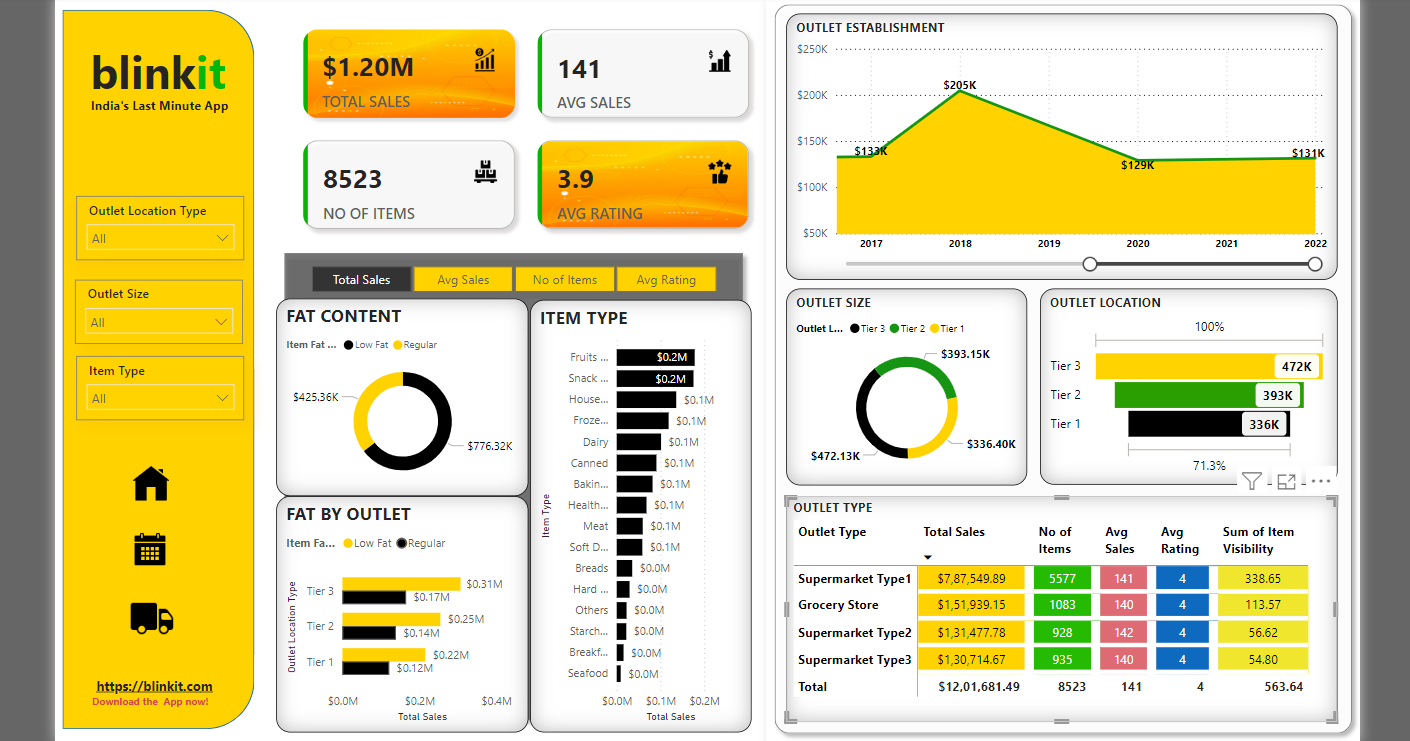

The dashboard page shown, as its layout file describes it:
{"tool":"powerbi","page":{"name":"Page 1","canvas":[1400,800],"ordinal":0},"visuals":[{"type":"shape","box":[8.6,14.3,205.7,771.4],"z":0},{"type":"textbox","box":[25.7,42.9,170,100],"z":1000},{"type":"textbox","box":[10,102.9,205.7,80],"z":2000},{"type":"cardVisual","fields":{"Data":["BlinkIT Grocery Data.Total Sales","BlinkIT Grocery Data.Avg Sales","BlinkIT Grocery Data.No of Items","BlinkIT Grocery Data.Avg Rating"]},"box":[250,18.6,512.9,248.6],"z":3000},{"type":"shape","box":[278.6,270,461.4,530],"z":4000},{"type":"donutChart","title":" FAT CONTENT","fields":{"Y":["BlinkIT Grocery Data.Total Sales"],"Category":["BlinkIT Grocery Data.Item Fat Content"]},"box":[278.6,324.3,230,211.4],"z":5000},{"type":"slicer","fields":{"Values":["Metrics.Metrics"]},"box":[292.9,282.9,432.9,41.4],"z":6000},{"type":"clusteredBarChart","title":"FAT BY OUTLET","fields":{"Y":["BlinkIT Grocery Data.Total Sales"],"Series":["BlinkIT Grocery Data.Item Fat Content"],"Category":["BlinkIT Grocery Data.Outlet Location Type"]},"box":[278.6,535.7,230,254.3],"z":7000},{"type":"barChart","title":"ITEM TYPE","fields":{"Y":["BlinkIT Grocery Data.Total Sales"],"Category":["BlinkIT Grocery Data.Item Type"]},"box":[510,325.7,230,464.3],"z":8000},{"type":"shape","box":[762.9,0,637.1,800],"z":9000},{"type":"lineChart","title":"OUTLET ESTABLISHMENT","fields":{"Y":["BlinkIT Grocery Data.Total Sales"],"Category":["BlinkIT Grocery Data.Outlet Establishment Year"]},"box":[784.3,42.9,571.4,261.4],"z":10000},{"type":"pieChart","title":"OUTLET SIZE","fields":{"Y":["BlinkIT Grocery Data.Total Sales"],"Category":["BlinkIT Grocery Data.Outlet Location Type"]},"box":[784.3,314.3,258.6,211.4],"z":11000},{"type":"funnel","title":"OUTLET LOCATION","fields":{"Y":["Sum(BlinkIT Grocery Data.Sales)"],"Category":["BlinkIT Grocery Data.Outlet Location Type"]},"box":[1055.7,314.3,300,210],"z":12000},{"type":"pivotTable","title":"OUTLET TYPE","fields":{"Rows":["BlinkIT Grocery Data.Outlet Type"],"Values":["BlinkIT Grocery Data.Total Sales","BlinkIT Grocery Data.No of Items","BlinkIT Grocery Data.Avg Sales","BlinkIT Grocery Data.Avg Rating","Sum(BlinkIT Grocery Data.Item Visibility)"]},"box":[784.3,535.7,571.4,224.3],"z":13000},{"type":"slicer","fields":{"Values":["BlinkIT Grocery Data.Outlet Location Type"]},"box":[22.9,214.3,180,68.6],"z":14000},{"type":"slicer","fields":{"Values":["BlinkIT Grocery Data.Outlet Size"]},"box":[21.4,304.3,180,68.6],"z":15000},{"type":"slicer","fields":{"Values":["BlinkIT Grocery Data.Item Type"]},"box":[22.9,385.7,180,68.6],"z":16000},{"type":"image","box":[67.1,498.6,71.4,50],"z":17000},{"type":"image","box":[75.7,571.4,54.3,45.7],"z":18000},{"type":"image","box":[68.6,634.3,71.4,55.7],"z":19000},{"type":"textbox","box":[17.1,725.7,178.6,74.3],"z":20000},{"type":"textbox","box":[0,741.4,204.3,37.1],"z":21000}]}

Visuals, with their boxes on the page's 1400x800 design canvas (x1, y1, x2, y2). These are canvas units, not pixel positions in the 1410x741 screenshot, which may show the page scaled, cropped or inside an application window:
shape: bbox=[9, 14, 214, 786]
textbox: bbox=[26, 43, 196, 143]
textbox: bbox=[10, 103, 216, 183]
cardVisual - BlinkIT Grocery Data.Total Sales x BlinkIT Grocery Data.Avg Sales: bbox=[250, 19, 763, 267]
shape: bbox=[279, 270, 740, 800]
" FAT CONTENT" donutChart: bbox=[279, 324, 509, 536]
slicer - Metrics.Metrics: bbox=[293, 283, 726, 324]
"FAT BY OUTLET" clusteredBarChart: bbox=[279, 536, 509, 790]
"ITEM TYPE" barChart: bbox=[510, 326, 740, 790]
shape: bbox=[763, 0, 1400, 800]
"OUTLET ESTABLISHMENT" lineChart: bbox=[784, 43, 1356, 304]
"OUTLET SIZE" pieChart: bbox=[784, 314, 1043, 526]
"OUTLET LOCATION" funnel: bbox=[1056, 314, 1356, 524]
"OUTLET TYPE" pivotTable: bbox=[784, 536, 1356, 760]
slicer - BlinkIT Grocery Data.Outlet Location Type: bbox=[23, 214, 203, 283]
slicer - BlinkIT Grocery Data.Outlet Size: bbox=[21, 304, 201, 373]
slicer - BlinkIT Grocery Data.Item Type: bbox=[23, 386, 203, 454]
image: bbox=[67, 499, 138, 549]
image: bbox=[76, 571, 130, 617]
image: bbox=[69, 634, 140, 690]
textbox: bbox=[17, 726, 196, 800]
textbox: bbox=[0, 741, 204, 778]
